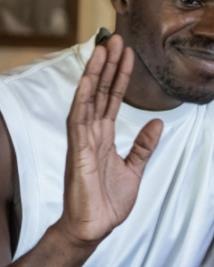down: (55, 32, 166, 229)
